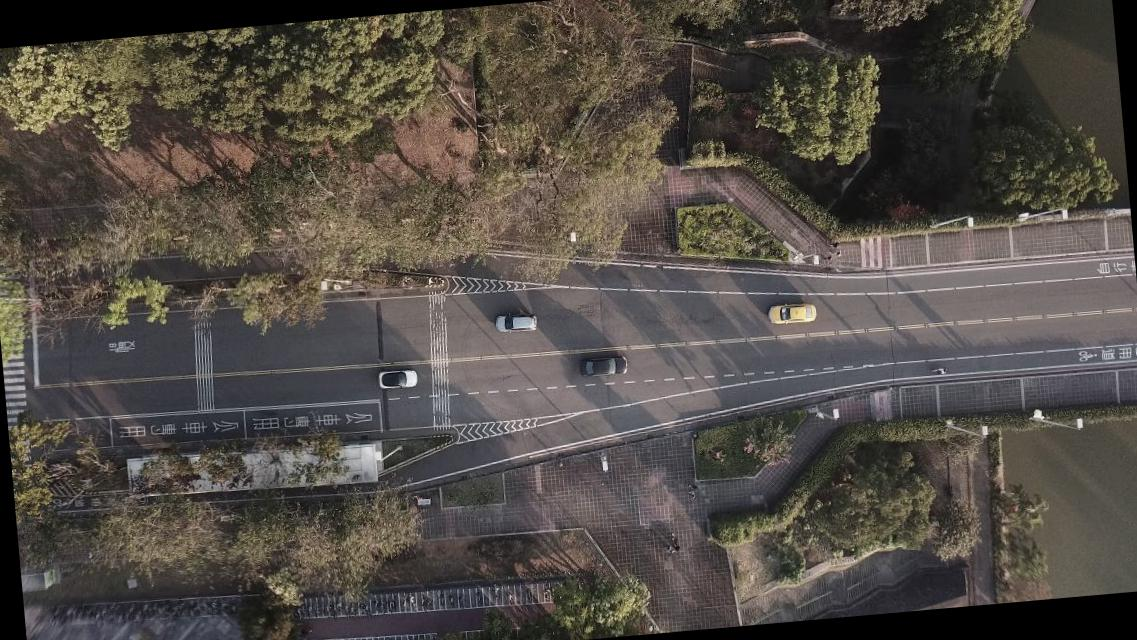vehicle: (766, 300, 817, 326), (578, 355, 628, 378), (492, 311, 536, 334), (376, 368, 417, 390)
